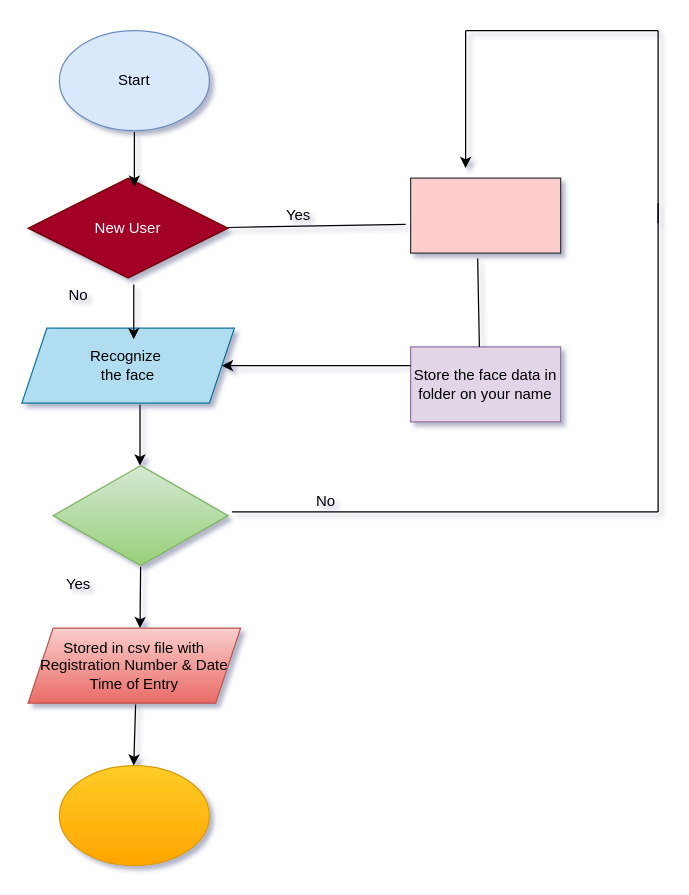
Some shapes in this 689 by 895 pixel diagram are drawn without their labels. Here are the shapes that lost their labels. From the top down, the centre of each, then its label:
At (x=485, y=215): "Give your Photograph".
At (x=140, y=515): "Face Recogined".
At (x=133, y=815): "End".
